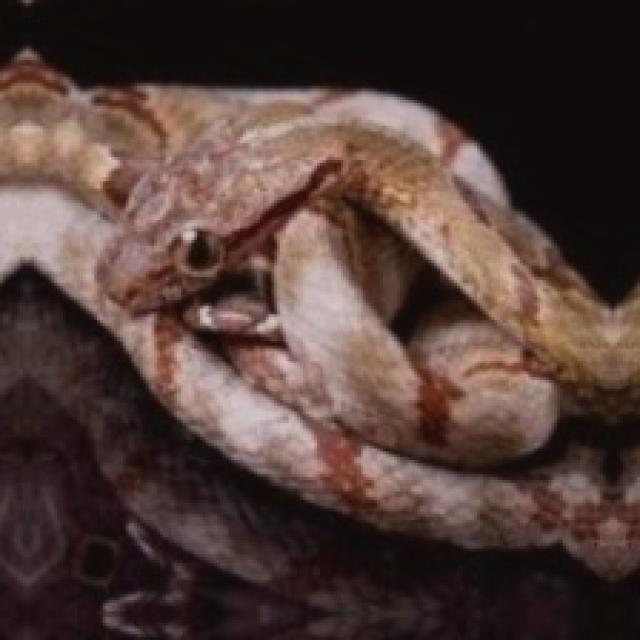dog-toothed cat snake: (0, 52, 640, 577)
